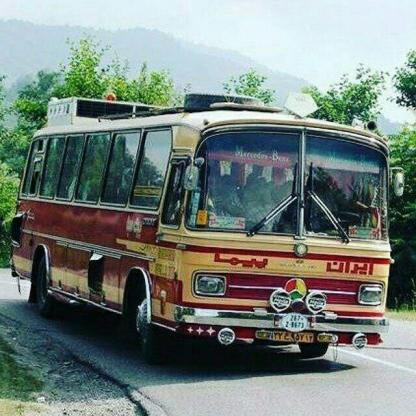Bus: (13, 87, 393, 376)
